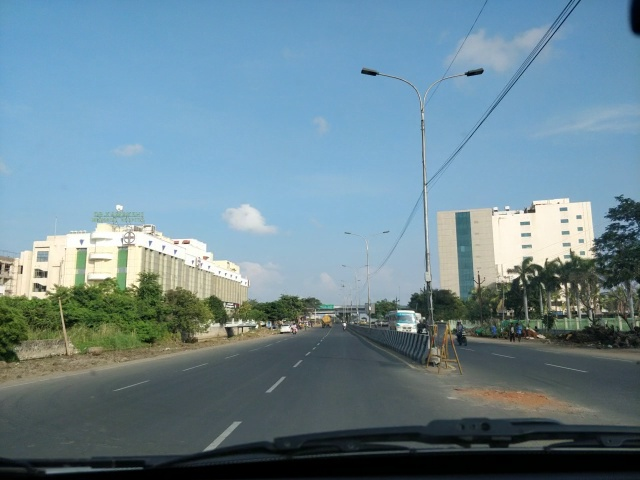bus: (388, 310, 424, 333)
motorbike: (453, 320, 467, 345), (290, 323, 302, 336), (340, 319, 351, 331)
person: (507, 321, 518, 342)
truck: (319, 313, 333, 329)
